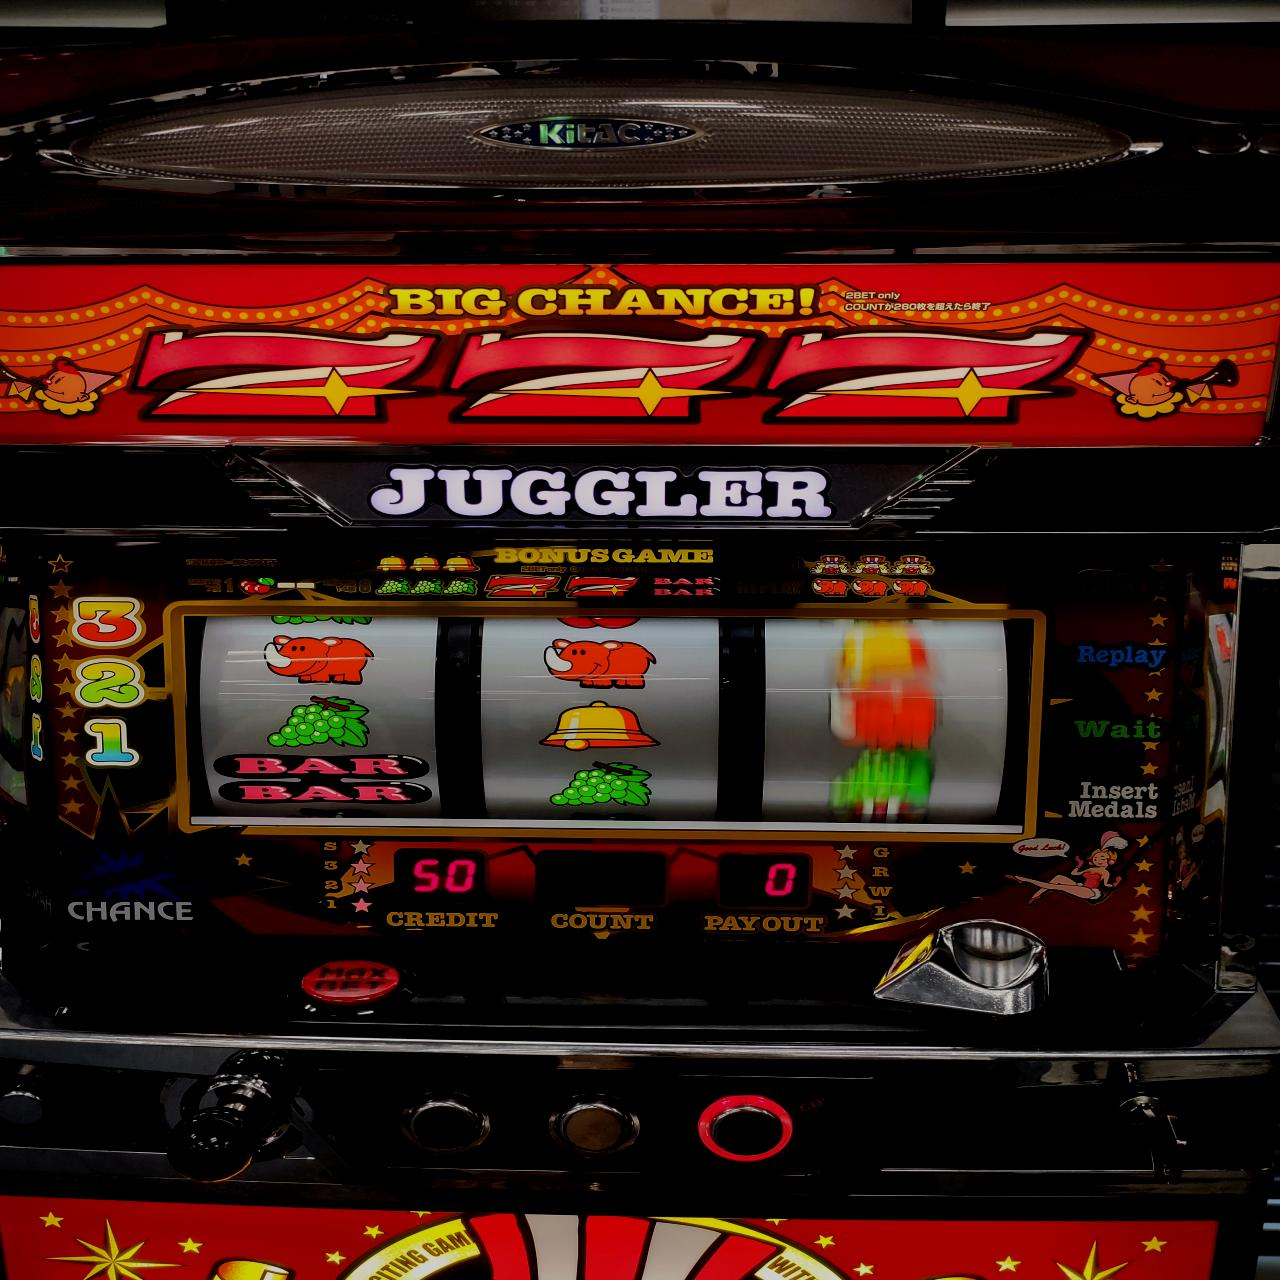8: (257, 631, 379, 687), (526, 635, 659, 686)
Display: (169, 601, 1028, 832)
bar: (197, 747, 435, 810)
bell: (542, 696, 661, 753)
grape: (545, 755, 655, 810), (260, 692, 368, 748)
